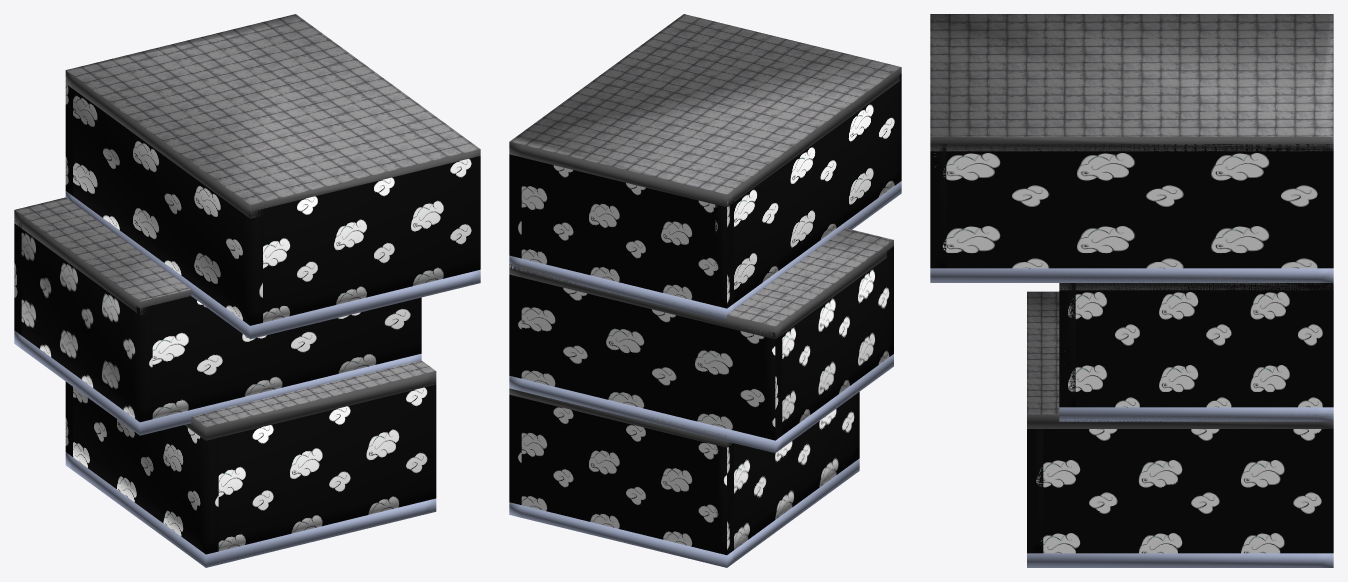
File: level 1.fbx
3 views of the same model, side by side, from view 1: azimuth 30°, elevation 25°; view 2: azimuth 150°, elevation 25°; view 3: azimuth 270°, elevation 25° (orthographic). The views are drawn at different scales.
Visible parts, largest first — view 1: cap, wall.001, wall.009, wall.011, wall.005, wall.007, wall.003, cap.002, cap.001, ground, ground.002, ground.001 (+2 smaller); view 2: cap, wall.004, wall, wall.008, wall.011, wall.007, wall.003, cap.002, ground.001, ground, ground.002, cap.001 (+3 smaller); view 3: cap, wall.010, wall.002, wall.006, cap.001, ground.002, ground, ground.001, cap.002, wall.005, wall.001, wall.009.
Part boxes in pixels (x1,y1,x2,y2): cap: (65,14,480,218); wall.001: (218,384,436,551); wall.009: (263,156,480,322); wall.011: (73,89,262,325); wall.005: (152,296,421,418); wall.007: (21,229,152,422); wall.003: (73,387,218,554); cap.002: (14,197,191,314); cap.001: (185,360,436,440); ground: (65,452,436,567); ground.002: (65,191,480,339); ground.001: (14,330,421,435); cap: (509,14,901,207); wall.004: (521,277,782,440); wall: (521,398,733,554); wall.008: (521,157,733,308); wall.011: (715,73,901,308); wall.007: (763,246,893,440); wall.003: (715,392,859,555); cap.002: (509,228,893,338); ground.001: (509,354,893,453); ground: (509,458,859,567); ground.002: (509,181,901,321); cap.001: (509,388,732,447); cap: (930,14,1333,151); wall.010: (930,144,1333,268); wall.002: (1027,429,1333,553); wall.006: (1059,283,1333,407); cap.001: (1027,291,1333,428); ground.002: (930,268,1333,282); ground: (1027,553,1333,567); ground.001: (1059,407,1333,421); cap.002: (1059,275,1333,290); wall.005: (1065,283,1075,407); wall.001: (1027,429,1043,553); wall.009: (934,144,946,268).
Bounding box in the file's own units: 44 × 59 × 50.
